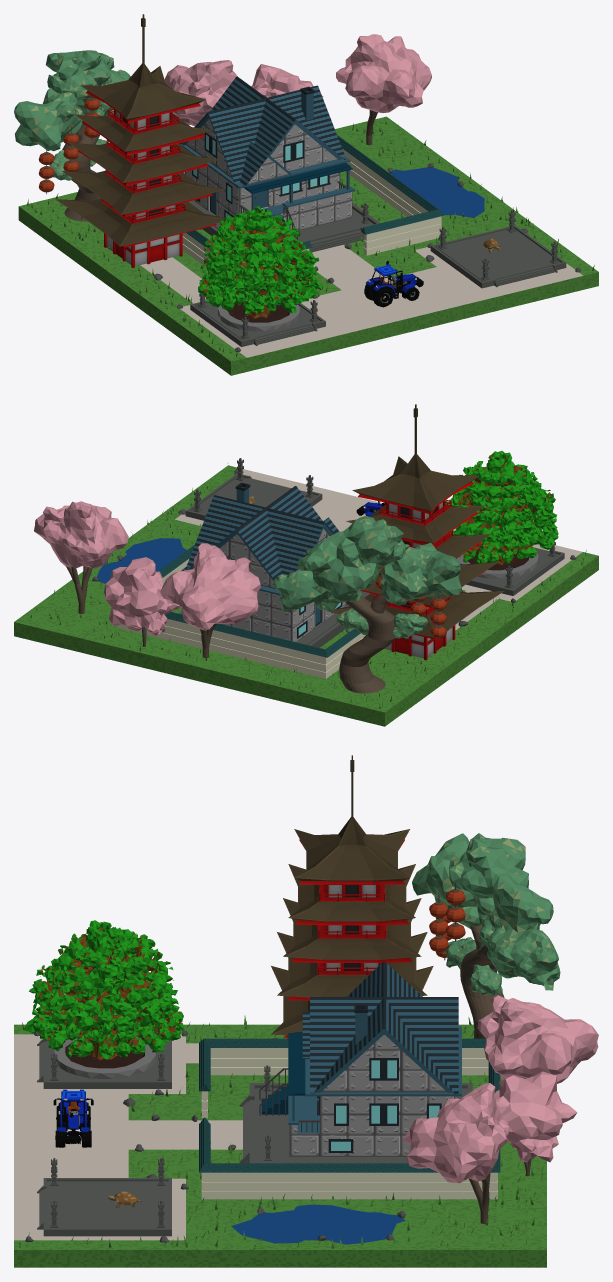
3 views of the same model, one above another, from view 1: azimuth 30°, elevation 25°; view 2: azimuth 150°, elevation 25°; view 3: azimuth 270°, elevation 25° (orthographic). The views are drawn at different scales.
Visible parts, largest first — view 1: Cube.005, Cube.078, OBJRANDOM_CEIBA, VEHICLES_TRACTOR; view 2: Cube.005, Cube.078, OBJRANDOM_CEIBA; view 3: Cube.005, Cube.078, OBJRANDOM_CEIBA, VEHICLES_TRACTOR.
Boxes of the visible parts, <box> form: Cube.005: <box>14,14,598,375</box>; Cube.078: <box>179,76,354,239</box>; OBJRANDOM_CEIBA: <box>198,205,322,331</box>; VEHICLES_TRACTOR: <box>364,260,423,307</box>; Cube.005: <box>14,404,598,726</box>; Cube.078: <box>181,482,347,642</box>; OBJRANDOM_CEIBA: <box>445,451,558,578</box>; Cube.005: <box>14,755,598,1267</box>; Cube.078: <box>259,961,461,1156</box>; OBJRANDOM_CEIBA: <box>23,920,184,1078</box>; VEHICLES_TRACTOR: <box>53,1089,93,1147</box>.
Size of the model in its own units: 4528 by 2713 by 4389.
40 materials, 8 textured.
